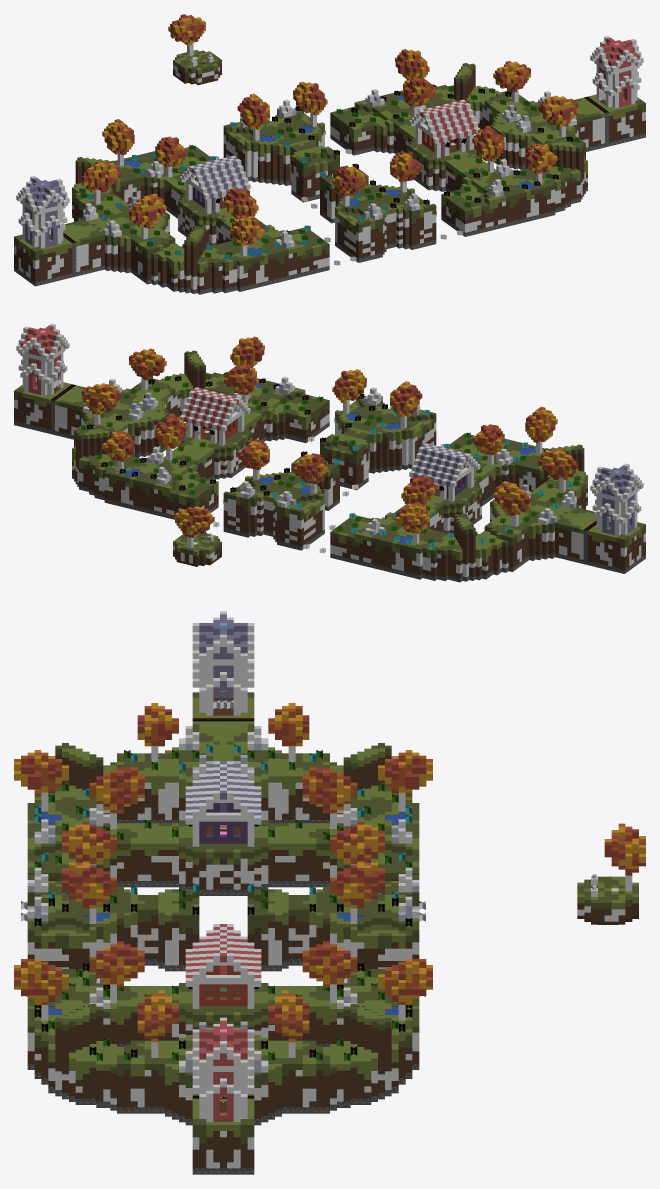
The model's file is minecraft.obj.
3 views of the same model, one above another, from view 1: azimuth 30°, elevation 25°; view 2: azimuth 150°, elevation 25°; view 3: azimuth 270°, elevation 25° (orthographic). The views are drawn at different scales.
Size of the model in its own units: 149 by 21 by 92.
